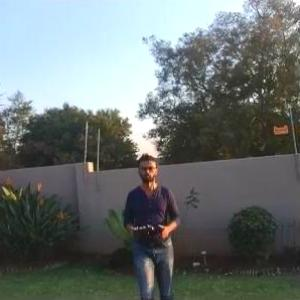follow: (119, 152, 188, 299)
